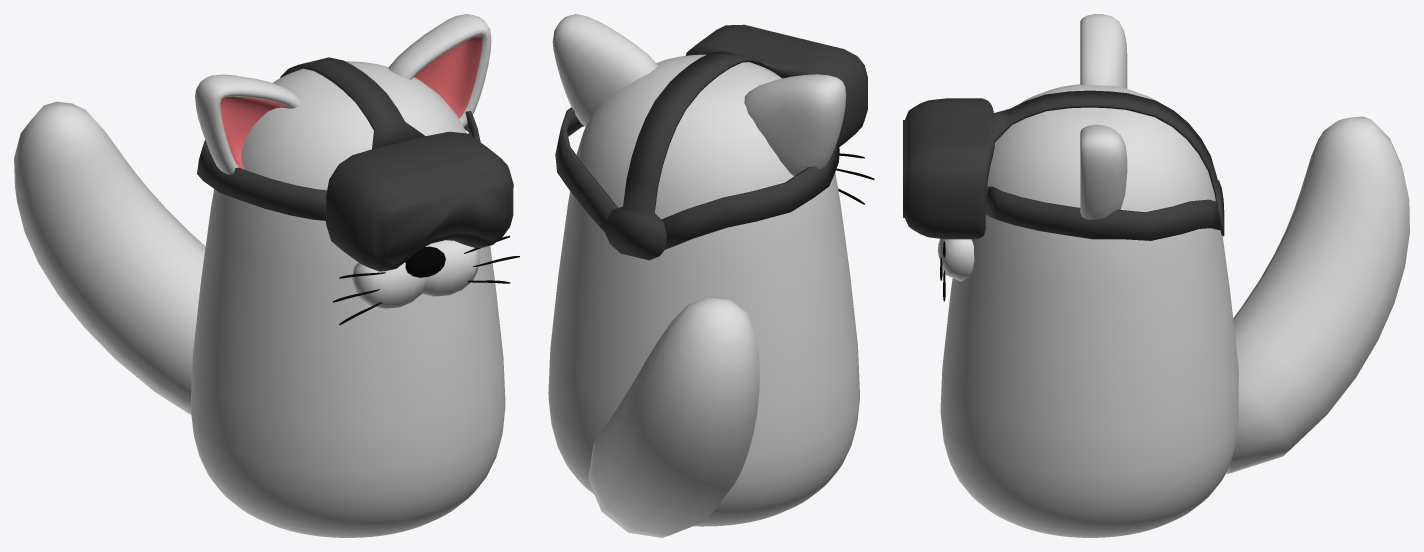
The model's file is CapsuleCat.fbx.
The picture shows the model from 3 angles, left to right: view 1: azimuth 30°, elevation 25°; view 2: azimuth 150°, elevation 25°; view 3: azimuth 270°, elevation 25°; orthographic projection. The views are drawn at different scales.
Parts seen in each view (by area): view 1: Body.001; view 2: Body.001; view 3: Body.001.
Part boxes in pixels (x1,y1,x2,y2): Body.001: (14,14,519,537); Body.001: (548,14,874,537); Body.001: (903,14,1409,537).
Size of the model in its own units: 124 by 162 by 173.
